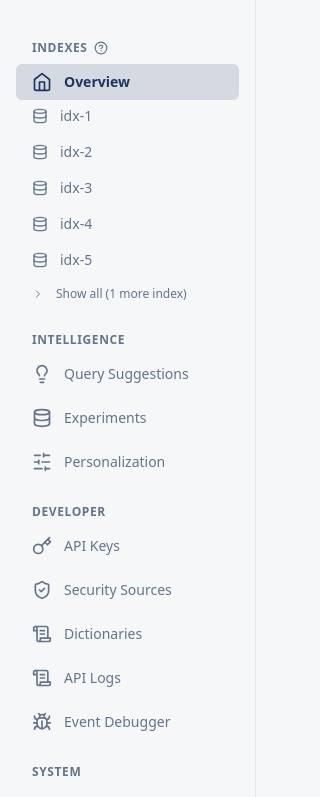
Test: Sidebar › renders grouped sections in design order and supports expanding index list
The image size is (320, 797).
Expected: the elements with test id "sidebar-section-heading-" read "Indexes", "Intelligence", "Developer", "System", in this order, [32,39,108,56]; [32,331,125,348]; [32,503,106,520]; [32,763,81,780]
Expected: the navigation bar named "Indexes" is shown, [16,64,239,100]
Click the button with test id "sidebar-show-all-indexes". click: coordinates (128, 294)
box: [16,280,239,308]
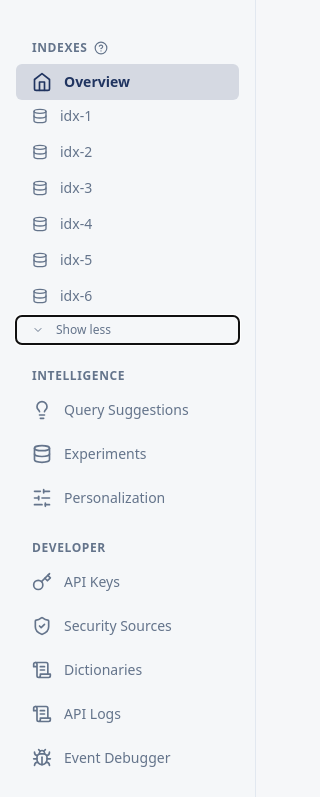
Result: the link with test id "sidebar-index-idx-6" is shown at [32,286,92,305]
Result: the button "Show less" is shown at [16,316,239,344]
